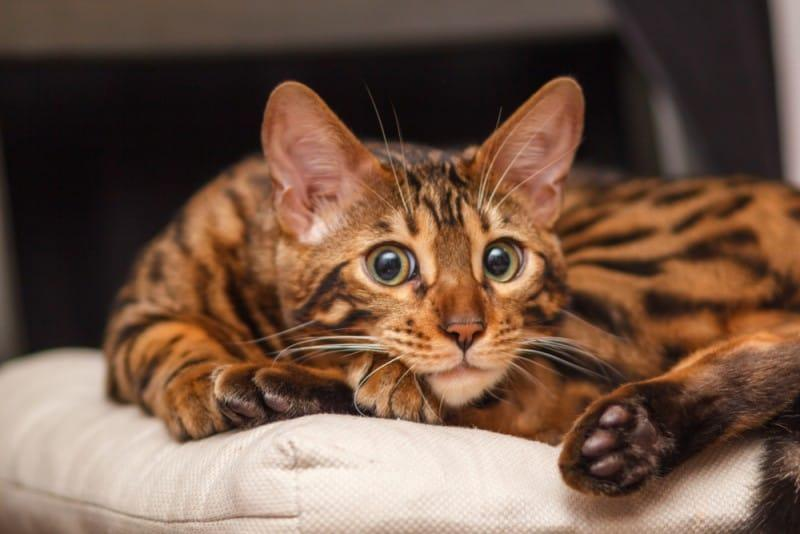bengal: (240, 62, 596, 423)
